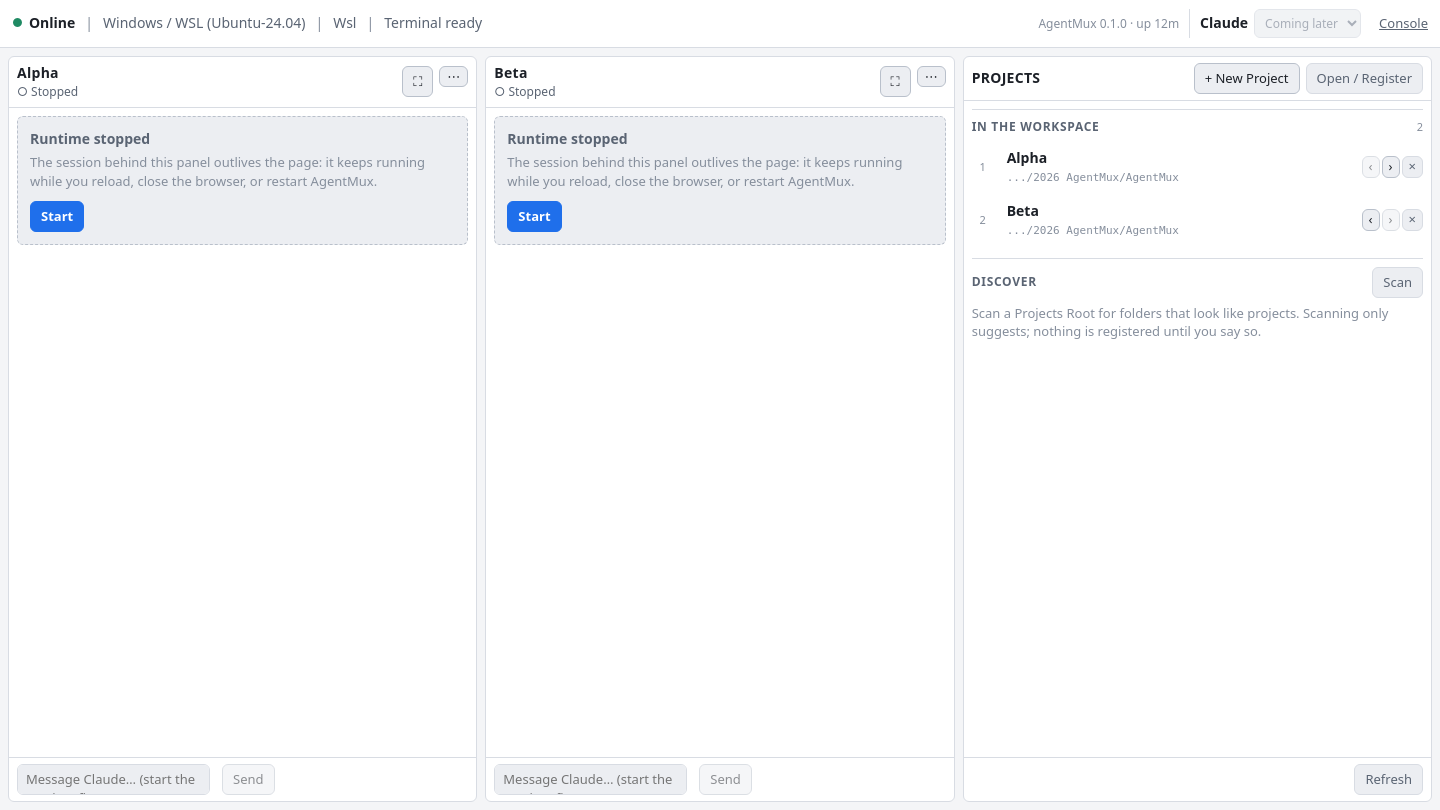
App focus › shows one project on its own and comes back to the grid
Check: the heading "Alpha" is shown, box [17,63,59,82]
Step 1. Click the button with aria-label "Open Alpha on its own" → (1027, 158), box [998,141,1358,192]
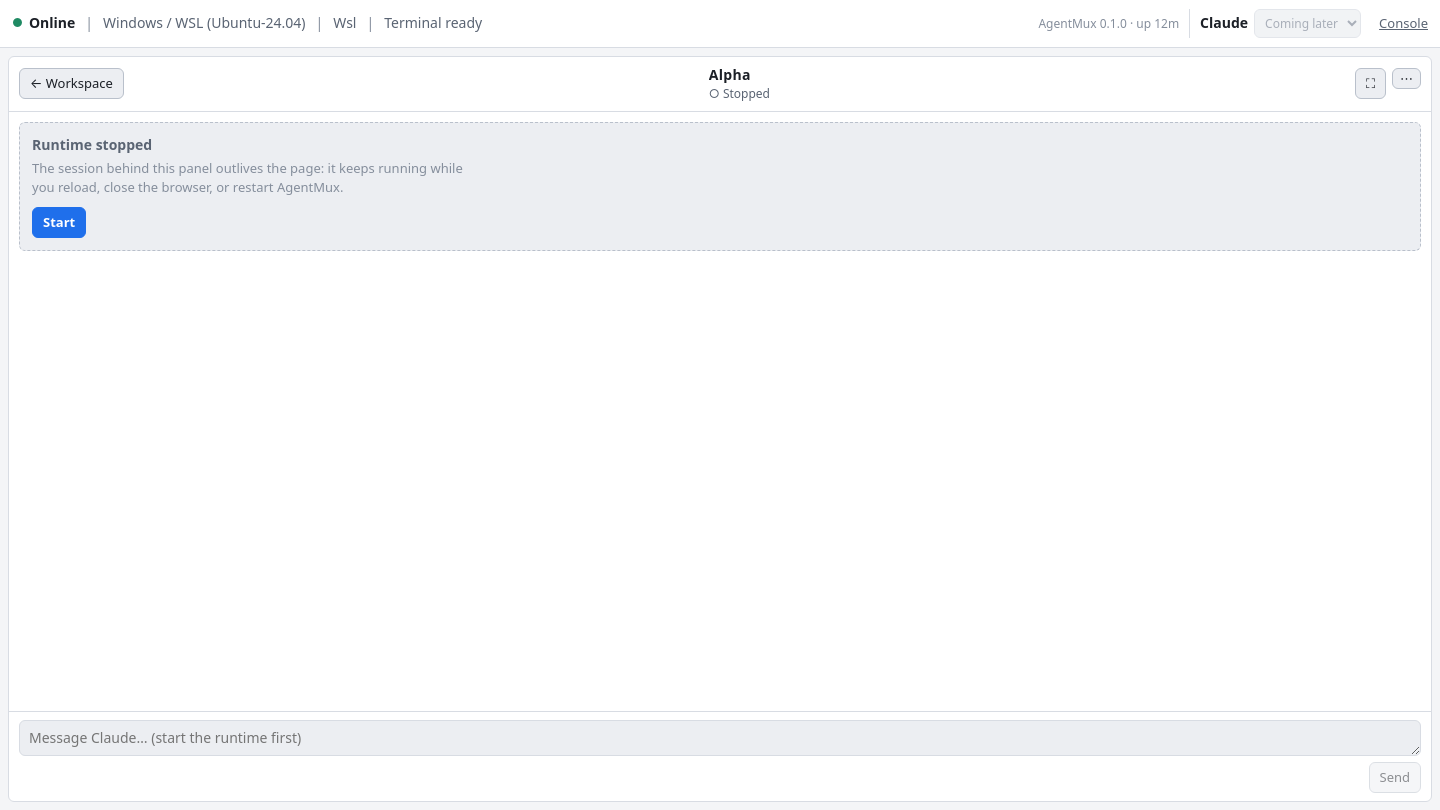
Check: the heading "Alpha" is shown, box [709,65,751,84]
Check: the heading "Beta" is gone
Check: the heading labelled "PROJECTS" is gone
Step 2. Click the button with aria-label "Back to the workspace" → (71, 84), box [19,68,124,99]
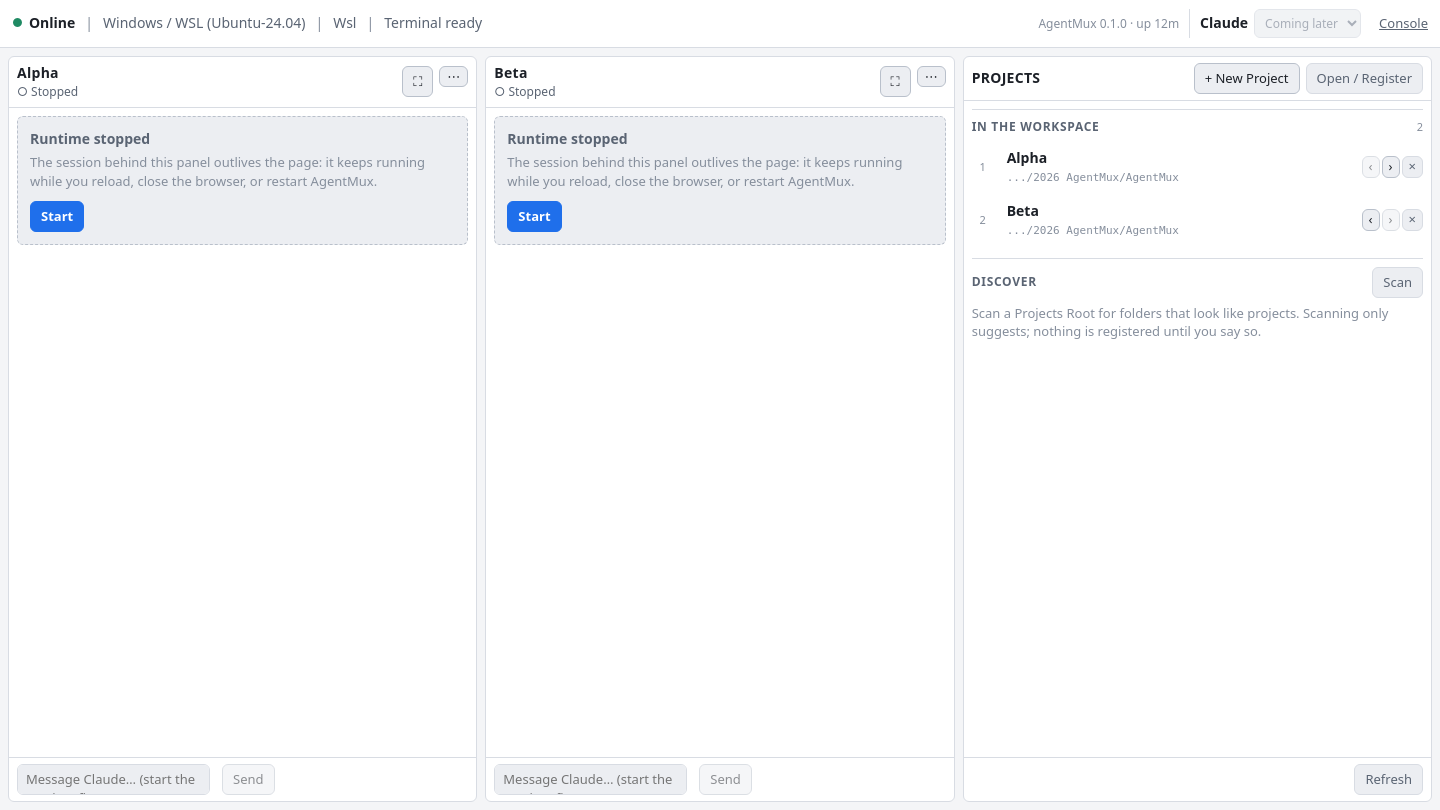
Check: the heading "Beta" is shown, box [494,63,528,82]
Check: the element labelled "PROJECTS" is shown, box [963,56,1432,802]
